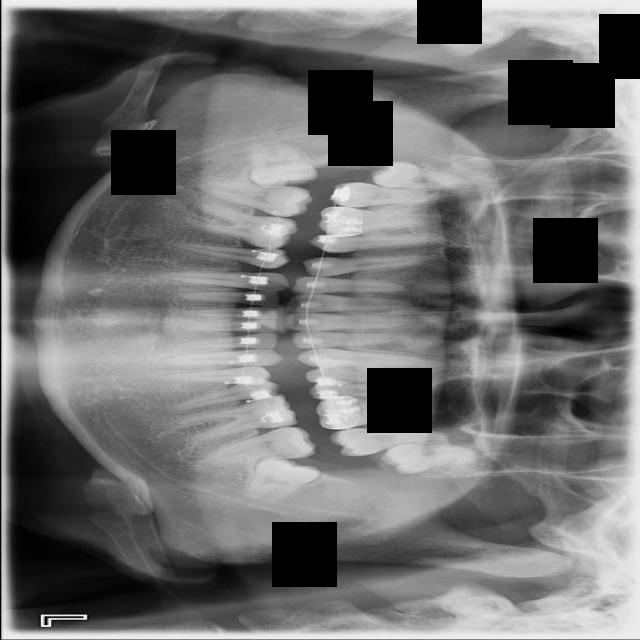3M ESPE Implant: (369, 160, 477, 191)
73: (46, 595, 56, 607)
BioHorizons Implant: (328, 420, 487, 458)
BioLife Implant: (379, 439, 478, 477)
Biomet 3i Implant: (243, 450, 320, 516)
Blue Sky Bio Implant: (196, 424, 317, 466)
Caries: (326, 179, 464, 209)
Implant: (192, 175, 313, 220)
Keystone Dental Implant: (246, 138, 318, 192)
